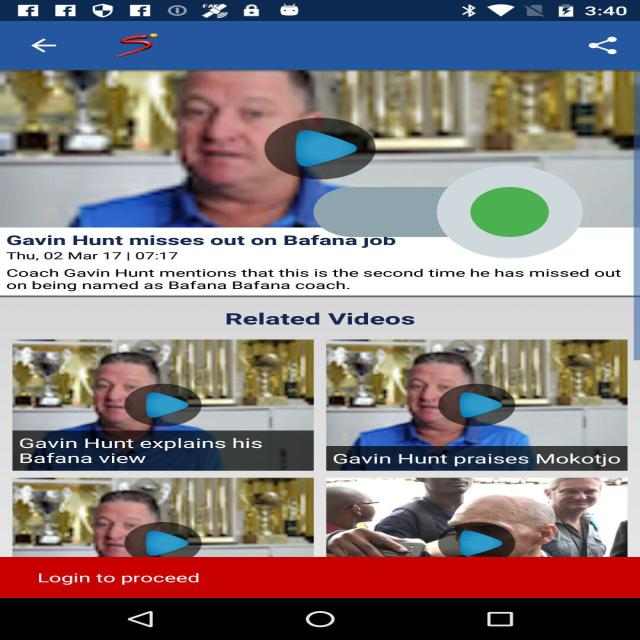social proof: (314, 126, 582, 298)
